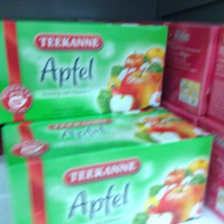tea: (1, 109, 215, 224), (1, 18, 169, 123)
